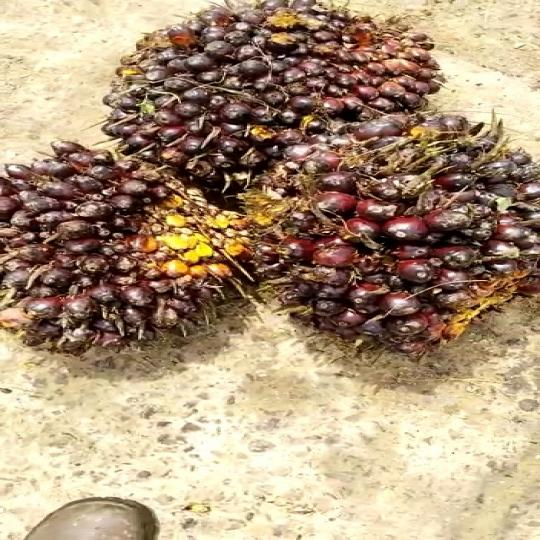kurang masak: (241, 105, 540, 360), (104, 0, 442, 209), (0, 140, 253, 375)
